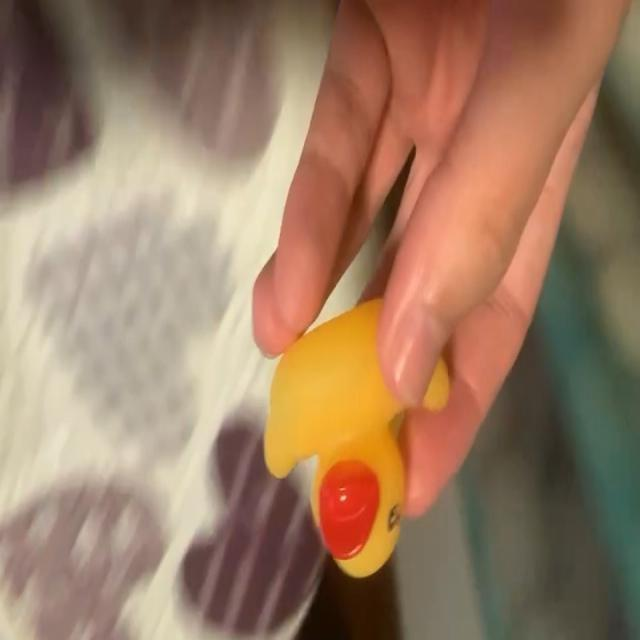rubber-duck: (263, 299, 403, 575)
